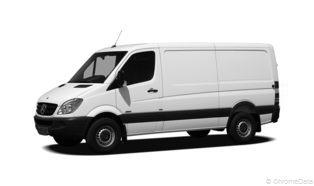car: (33, 30, 282, 150)
